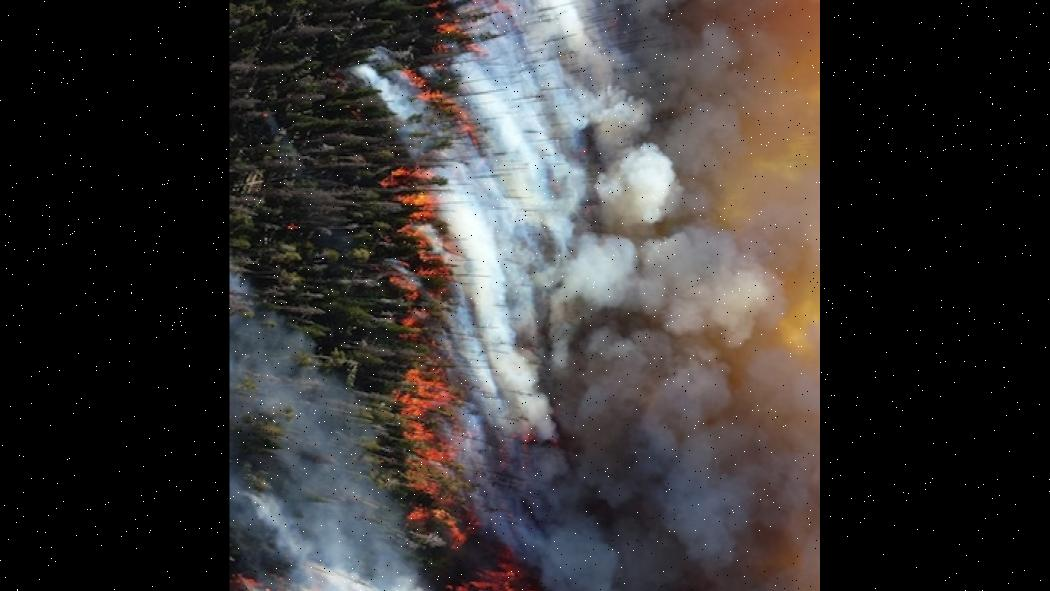fire: (324, 16, 564, 591)
